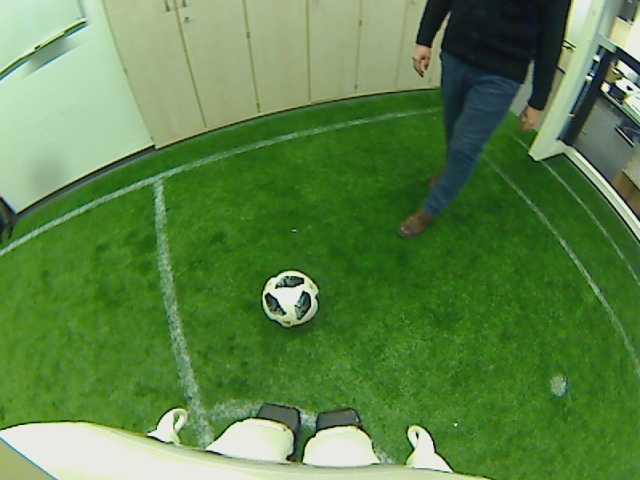ball: (259, 268, 322, 326)
